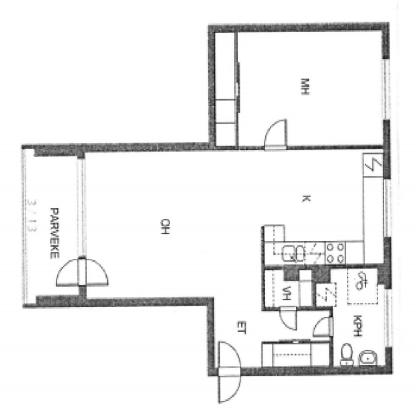door: (217, 340, 242, 406), (54, 257, 108, 287), (262, 119, 286, 150), (279, 306, 298, 333), (312, 317, 334, 339)
window: (76, 158, 88, 258), (383, 288, 394, 347), (382, 58, 392, 118), (384, 178, 391, 236)
zone: (85, 150, 387, 367), (216, 30, 384, 146), (22, 147, 80, 302), (317, 268, 387, 368), (264, 270, 313, 307)
